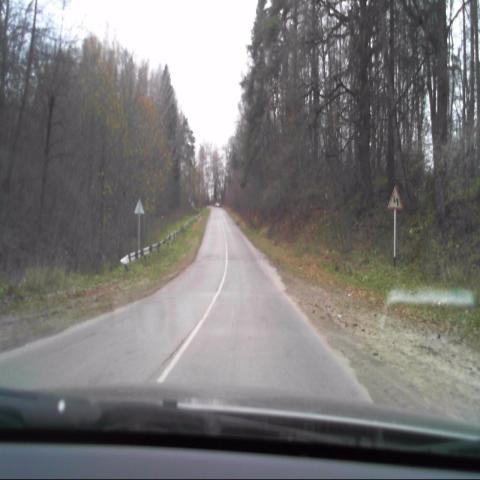1_12_2: (388, 186, 402, 211)
